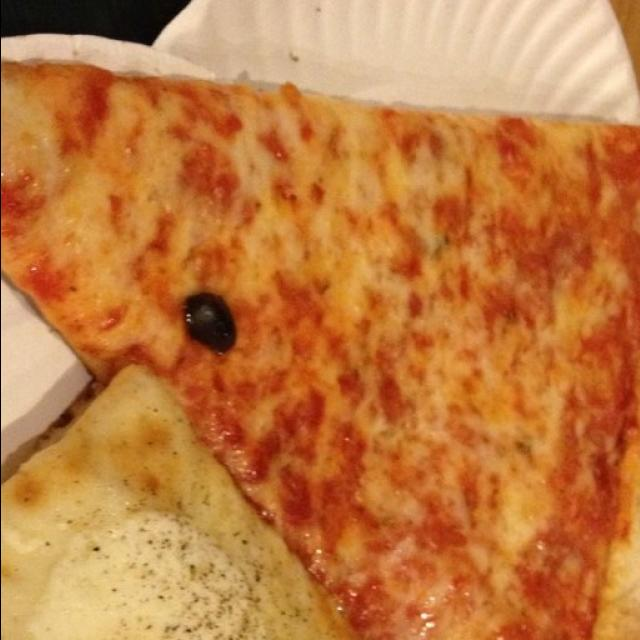olive: (180, 292, 241, 354)
pizza: (0, 63, 640, 640)
